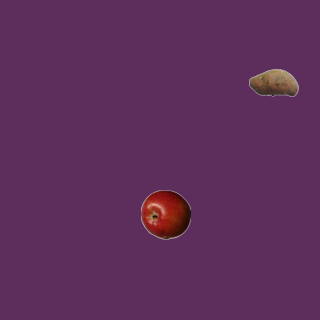Apple Braeburn: (140, 189, 190, 239)
Potato Sweet: (248, 57, 298, 107)
